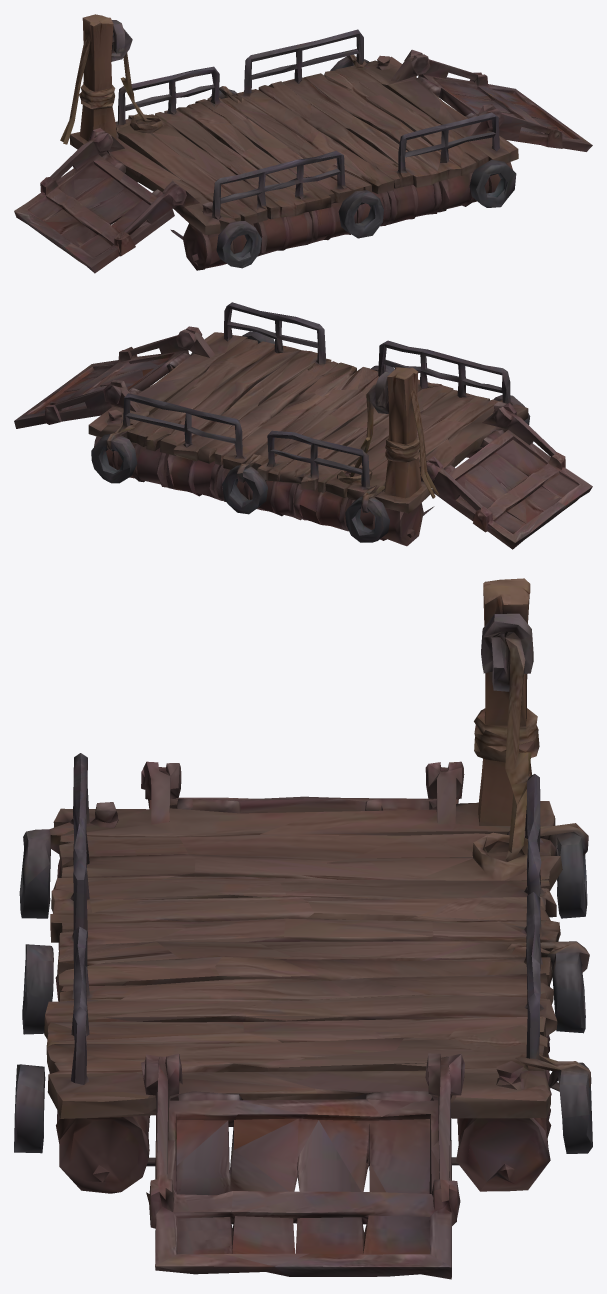
Rendered from ferry_raft_idle.glb.
The picture shows the model from 3 angles, top to bottom: view 1: azimuth 30°, elevation 25°; view 2: azimuth 150°, elevation 25°; view 3: azimuth 270°, elevation 25°; orthographic projection. The views are drawn at different scales.
Parts seen in each view (by area): view 1: tripo_node_917f6b3b-bb01-483d-ada2-ce52afa4e447; view 2: tripo_node_917f6b3b-bb01-483d-ada2-ce52afa4e447; view 3: tripo_node_917f6b3b-bb01-483d-ada2-ce52afa4e447.
Boxes of the visible parts, x1=… form: tripo_node_917f6b3b-bb01-483d-ada2-ce52afa4e447: x1=14, y1=14, x2=592, y2=273; tripo_node_917f6b3b-bb01-483d-ada2-ce52afa4e447: x1=14, y1=302, x2=592, y2=549; tripo_node_917f6b3b-bb01-483d-ada2-ce52afa4e447: x1=14, y1=578, x2=592, y2=1279.
Size of the model in its own units: 7 by 2.31 by 3.66.
1 material, 1 textured.
